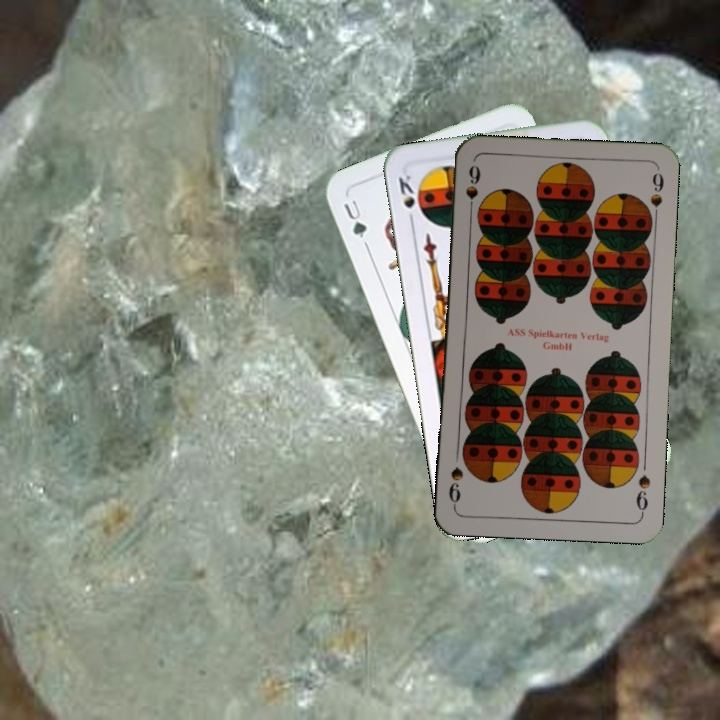GU: (339, 194, 370, 241)
S9: (461, 161, 483, 219), (632, 470, 653, 517)
SK: (394, 171, 417, 228)
